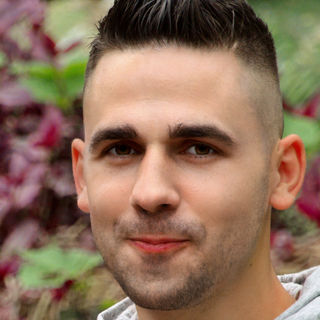eye: (172, 135, 224, 163), (97, 135, 145, 164)
